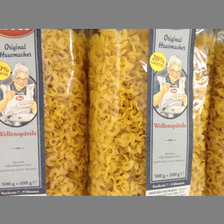pasta: (85, 29, 215, 196), (1, 29, 86, 195)
